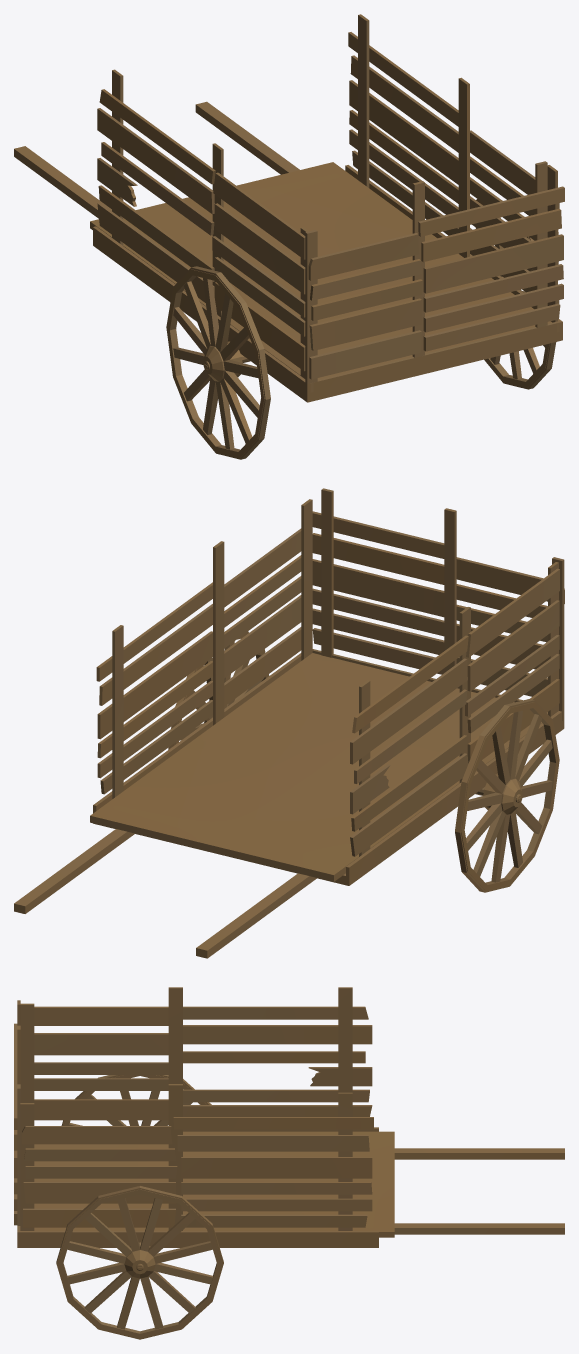
File: Cart.fbx
The picture shows the model from 3 angles, top to bottom: view 1: azimuth 30°, elevation 25°; view 2: azimuth 150°, elevation 25°; view 3: azimuth 270°, elevation 25°; orthographic projection. The views are drawn at different scales.
Parts seen in each view (by area): view 1: Cart; view 2: Cart; view 3: Cart.
Part boxes in pixels (x1,y1,x2,y2): Cart: [14, 14, 564, 459]; Cart: [14, 488, 564, 958]; Cart: [14, 987, 564, 1339].
Bounding box in the file's own units: 1.67 × 3.02 × 1.49.
1 material, 1 textured.
